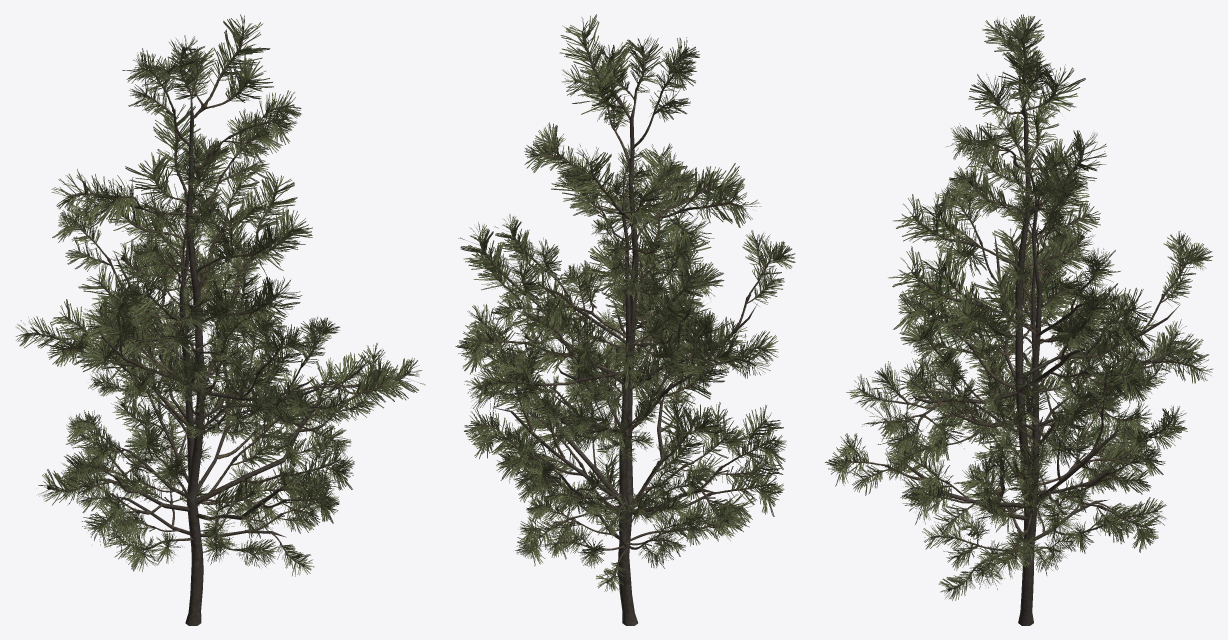
The model's file is pine_variants_lod.glb.
3 views of the same model, side by side, from view 1: azimuth 30°, elevation 25°; view 2: azimuth 150°, elevation 25°; view 3: azimuth 270°, elevation 25° (orthographic).
Parts seen in each view (by area): view 1: pine_sapling_small_a_lod0, pine_sapling_small_b_lod0, pine_sapling_small_c_lod0; view 2: pine_sapling_small_a_lod0, pine_sapling_small_b_lod0, pine_sapling_small_c_lod0; view 3: pine_sapling_small_a_lod0, pine_sapling_small_b_lod0, pine_sapling_small_c_lod0.
Boxes of the visible parts, box(x1,y1,x2,y2) form: pine_sapling_small_a_lod0: box(16, 14, 425, 625); pine_sapling_small_b_lod0: box(51, 131, 351, 625); pine_sapling_small_c_lod0: box(61, 186, 339, 576); pine_sapling_small_a_lod0: box(455, 14, 795, 625); pine_sapling_small_b_lod0: box(491, 144, 750, 625); pine_sapling_small_c_lod0: box(493, 186, 749, 591); pine_sapling_small_a_lod0: box(846, 14, 1212, 625); pine_sapling_small_b_lod0: box(825, 144, 1192, 552); pine_sapling_small_c_lod0: box(895, 181, 1187, 600).
Size of what is drawn, in the model's own units: 0.7877 by 1.3 by 0.7703.
2 materials, 2 textured.
